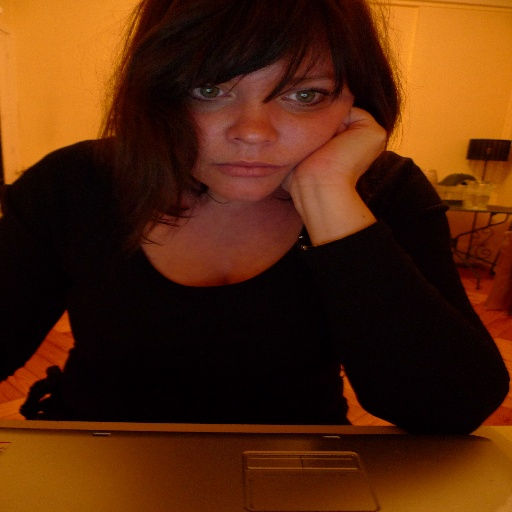hand: (279, 120, 383, 258)
